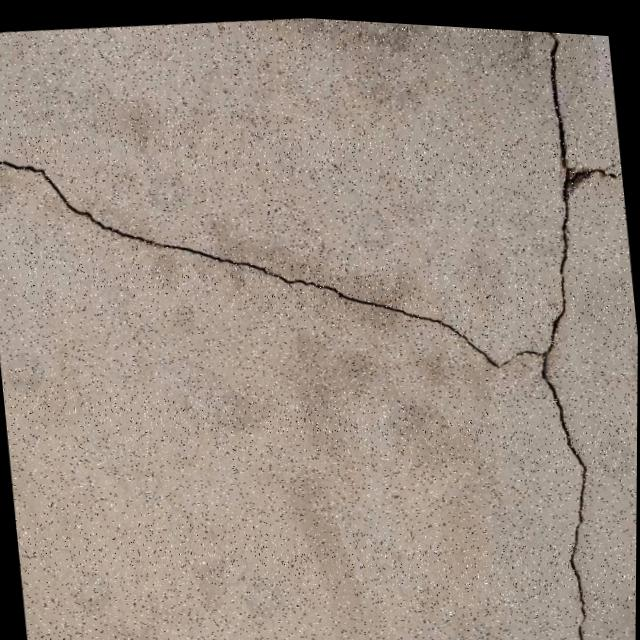Crack: (0, 92, 543, 426), (500, 23, 640, 640)
